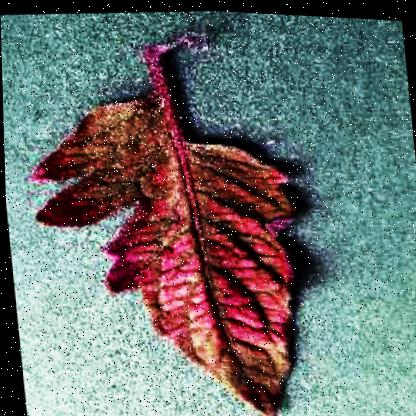Virus: (10, 13, 328, 415)
